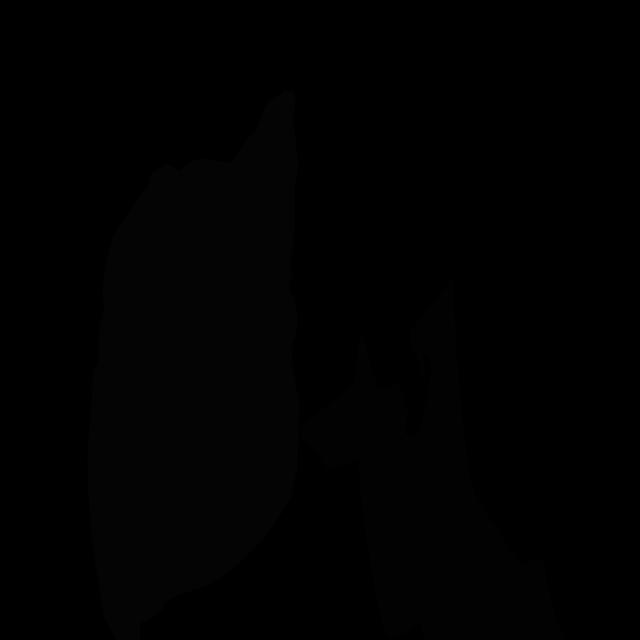cardboard: (358, 278, 565, 640), (300, 335, 408, 470)
soft_plastic: (87, 90, 300, 640)
